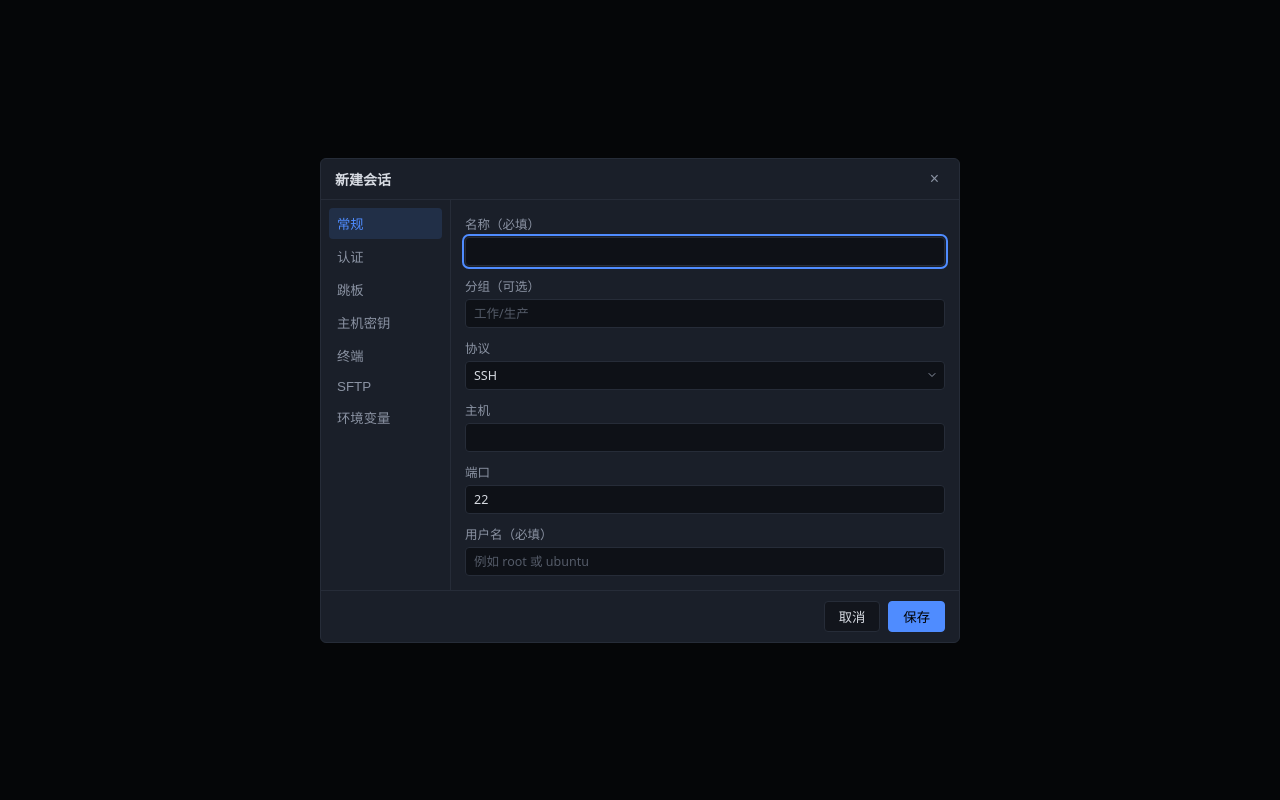
Test: ProfileDialog · R31 默认策略消费 › 新建档案 + 全局默认=strict → 策略下拉吃到 strict
Click the tab "主机密钥" at coordinates (386, 322), box [329, 306, 442, 338]
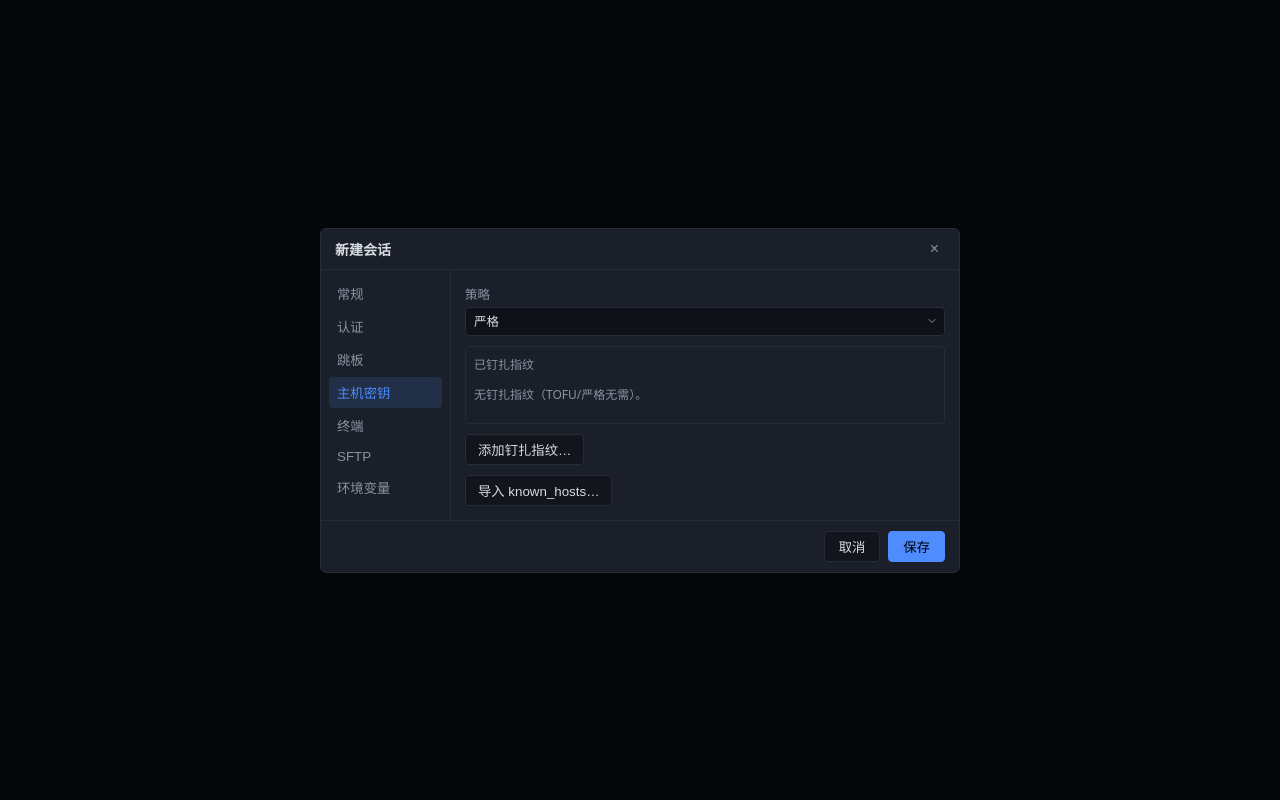
Now the dropdown with test id "pf-hk-policy" shows "严格", box [465, 306, 945, 336]
